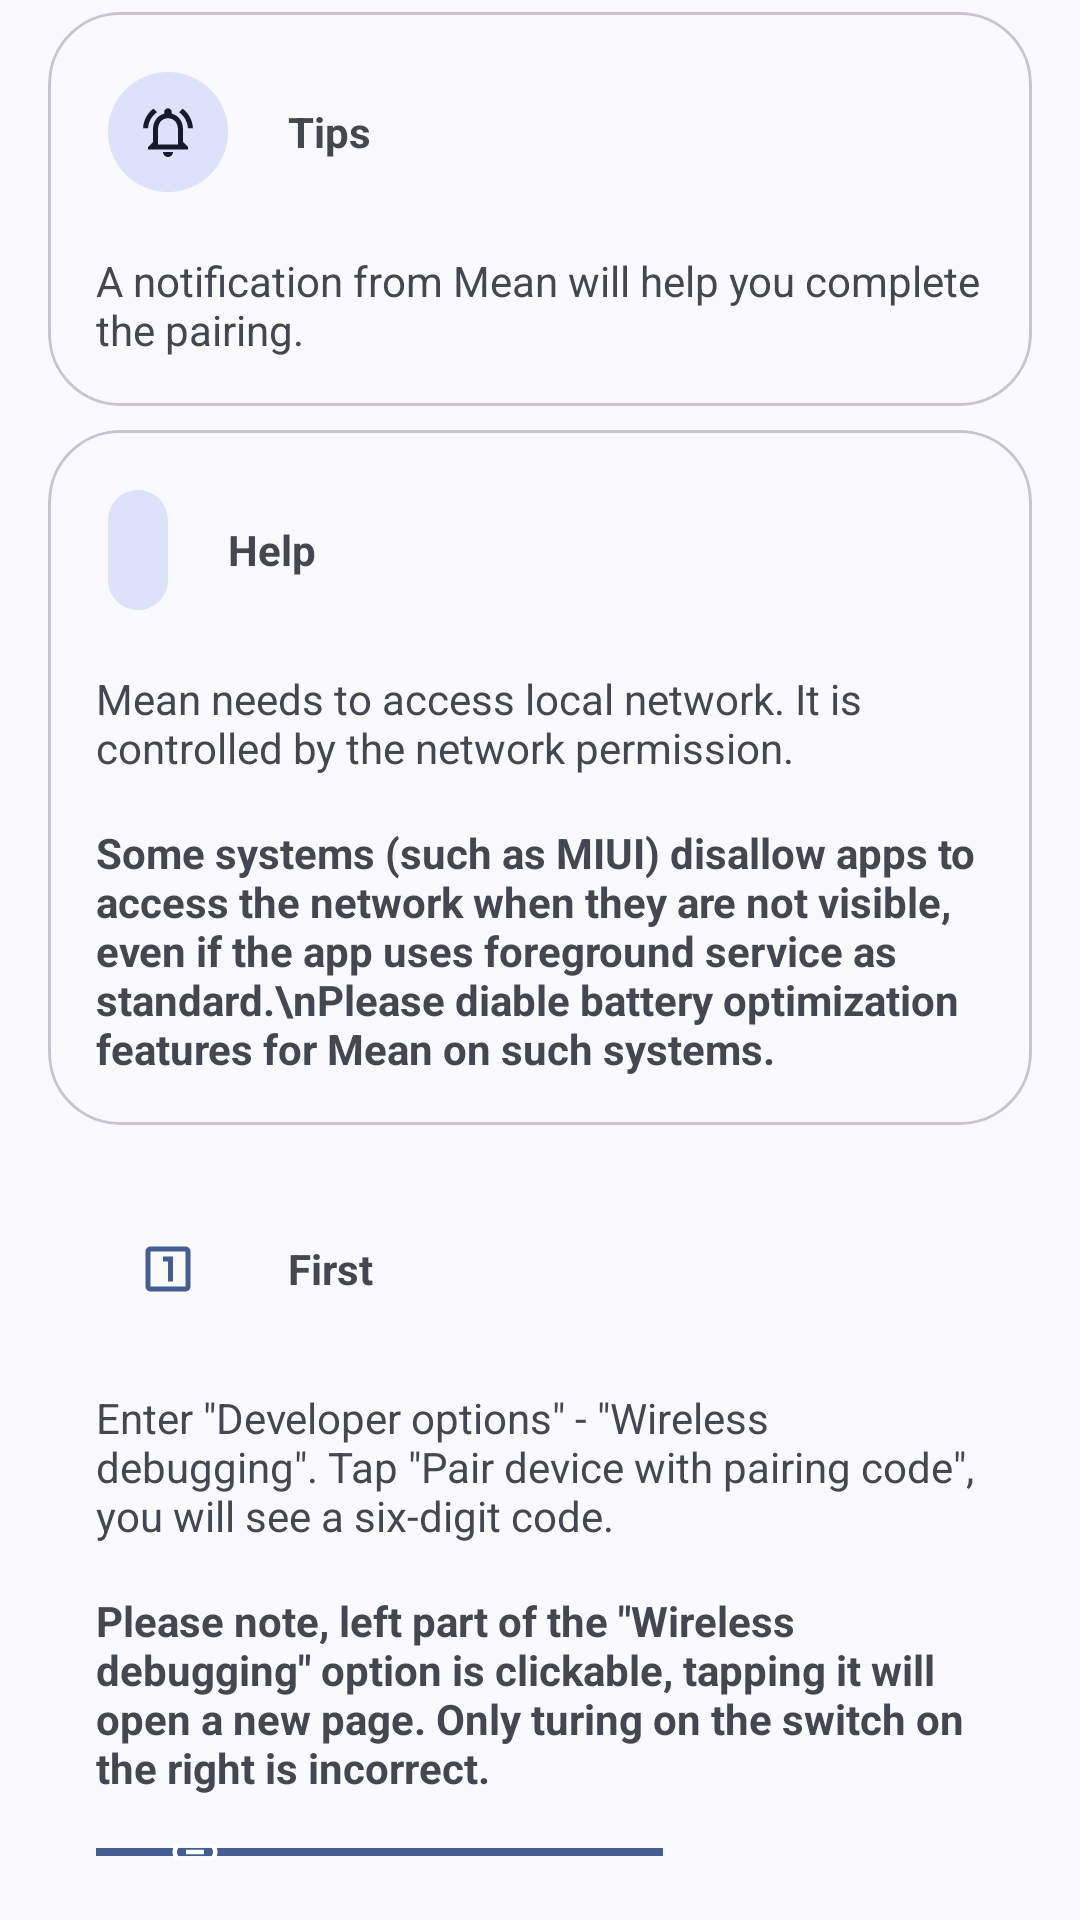

Icons on this 1080x1920 Android screen, each with its box as [x1,y1,x2,y2]:
looks one: [145,1246,191,1292]
notifications: [108,72,228,192]
